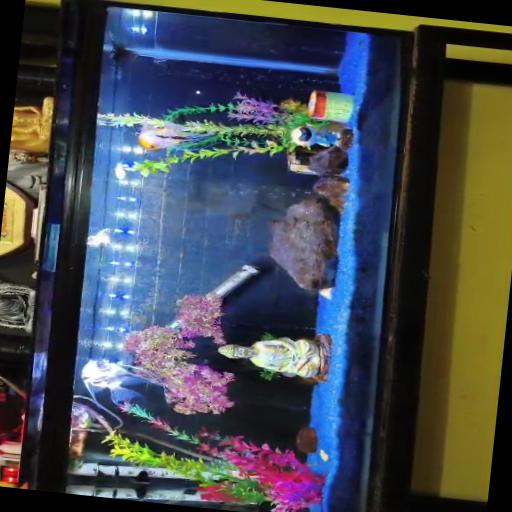Fish: (81, 360, 163, 405), (138, 123, 213, 151), (86, 228, 112, 247), (115, 163, 126, 180)
